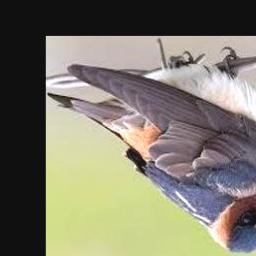Swallow: (47, 62, 256, 254)
